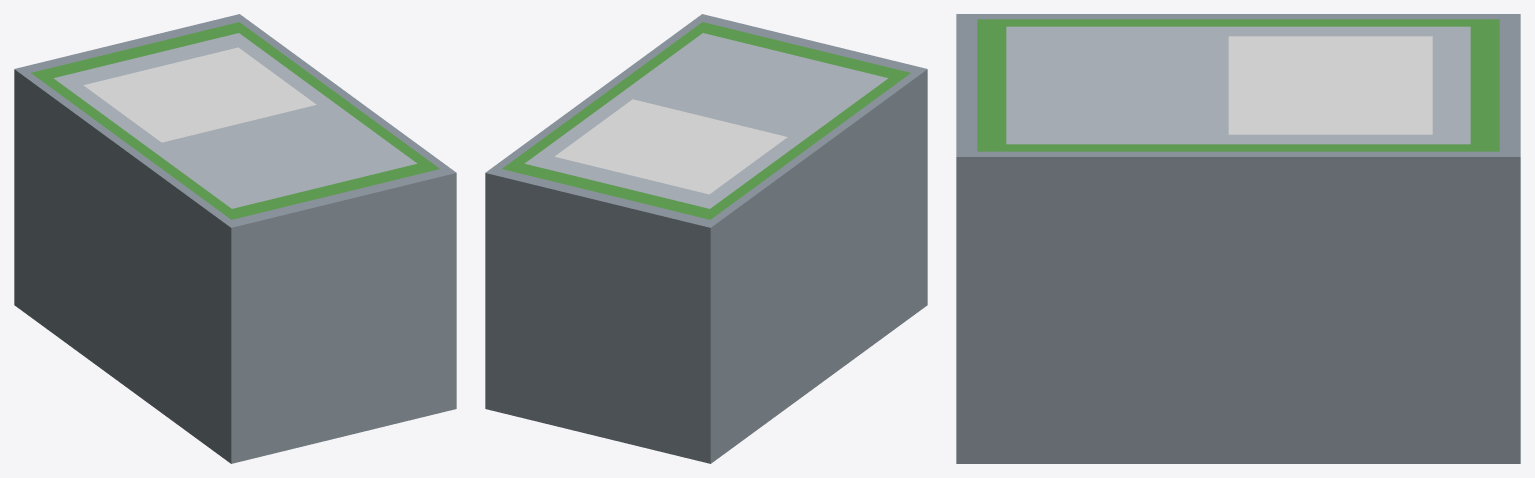
Rendered from Superficie2.fbx.
3 views of the same model, side by side, from view 1: azimuth 30°, elevation 25°; view 2: azimuth 150°, elevation 25°; view 3: azimuth 270°, elevation 25° (orthographic). The views are drawn at different scales.
Parts seen in each view (by area): view 1: Cube; view 2: Cube; view 3: Cube.
Boxes of the visible parts, box(x1,y1,x2,y2) form: Cube: box(14, 14, 456, 463); Cube: box(485, 14, 927, 463); Cube: box(956, 14, 1520, 463).
Bounding box in the file's own units: 12 × 12 × 20.
